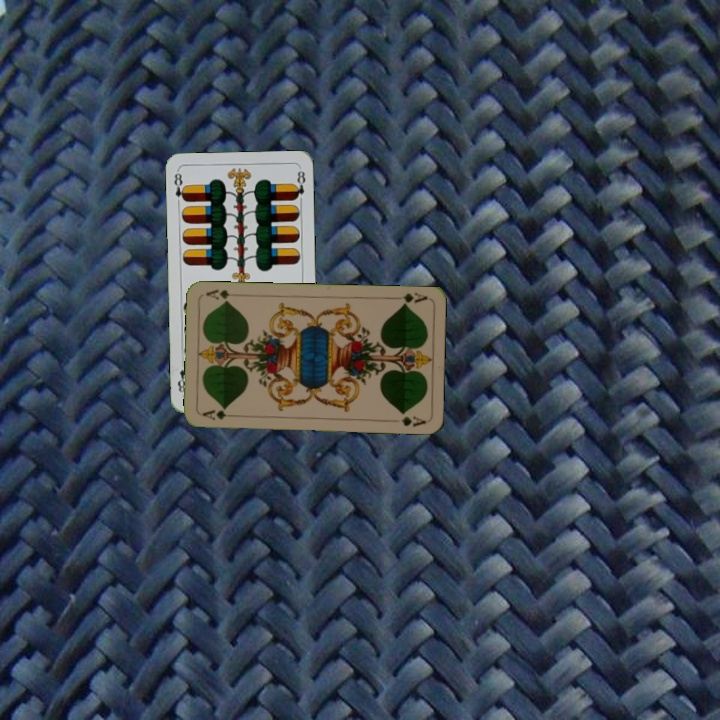E8: (170, 168, 189, 204)
GA: (389, 289, 430, 309), (199, 405, 229, 422)
